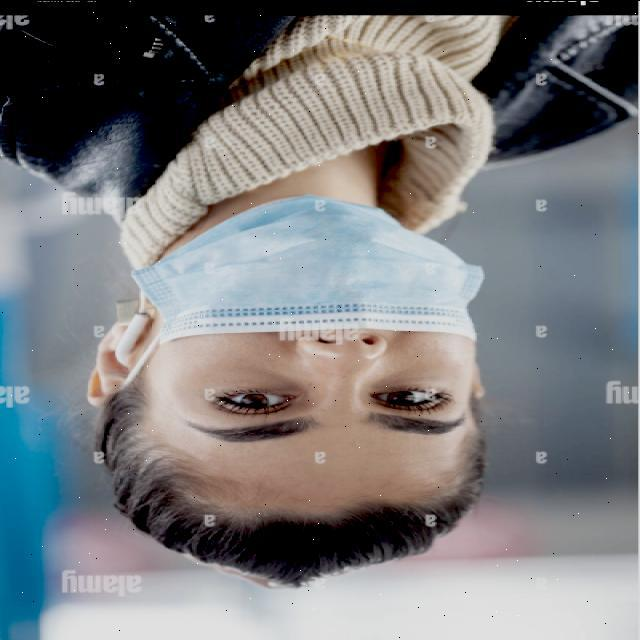face_half_mask: (128, 196, 475, 514)
